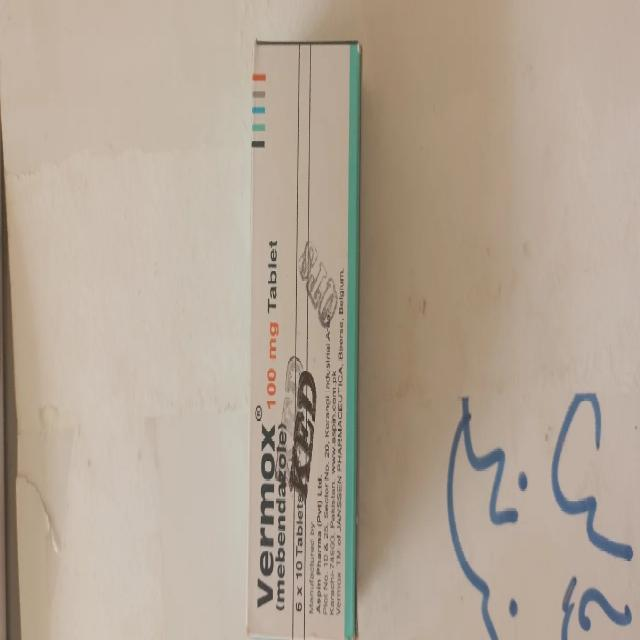drug-name: (259, 426, 275, 612)
